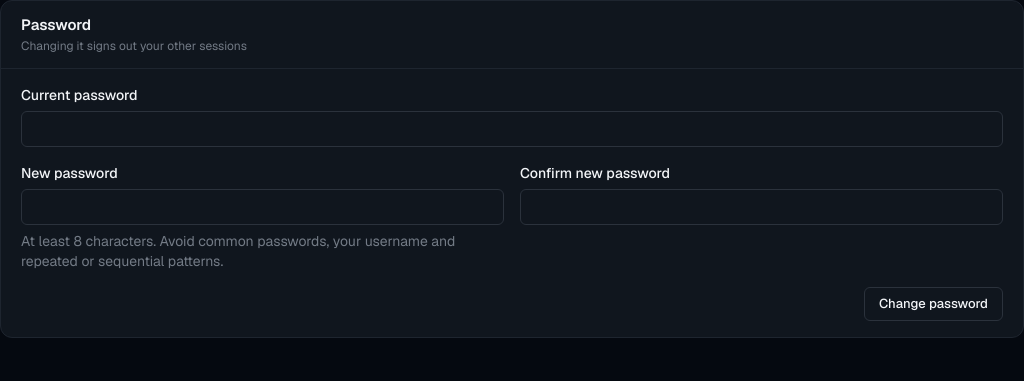
Test: ChangePasswordPanel › flags a wrong current password on its field
Type "wrong-secret" into the password field labelled "Current password". click: (512, 129)
box: x1=21 y1=111 x2=1003 y2=147
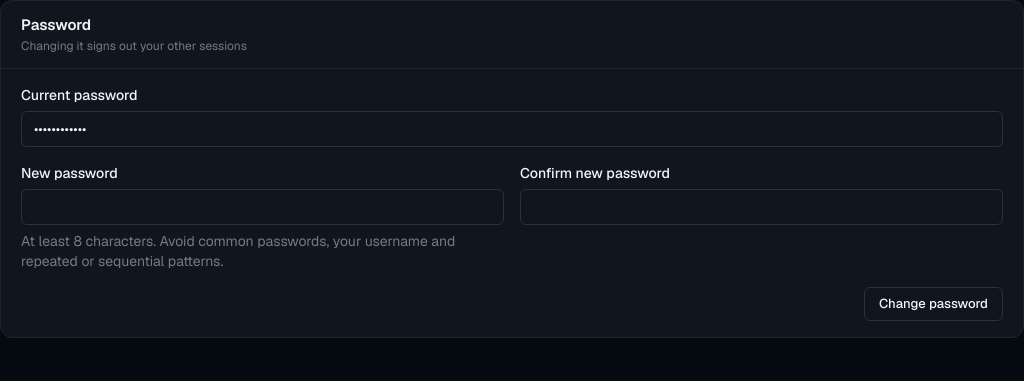
Type "new-secret-2" into the password field labelled "New password". click: (262, 207)
box: x1=21 y1=189 x2=504 y2=225
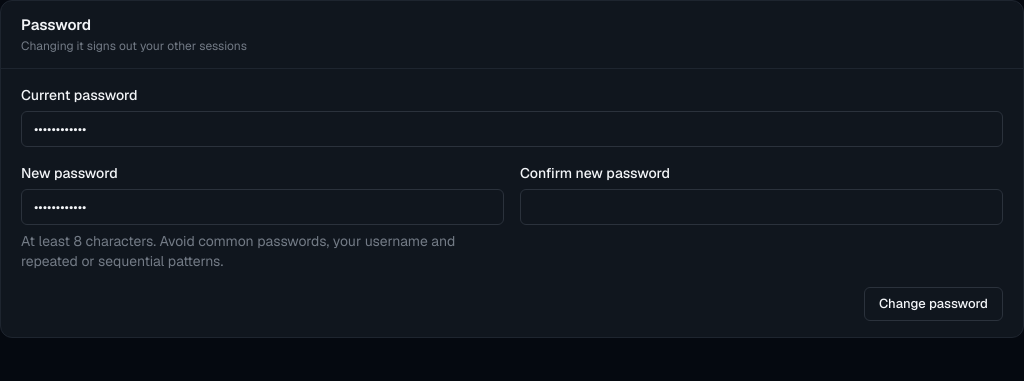
Type "new-secret-2" into the password field labelled "Confirm new password". click: (762, 207)
box: x1=520 y1=189 x2=1003 y2=225
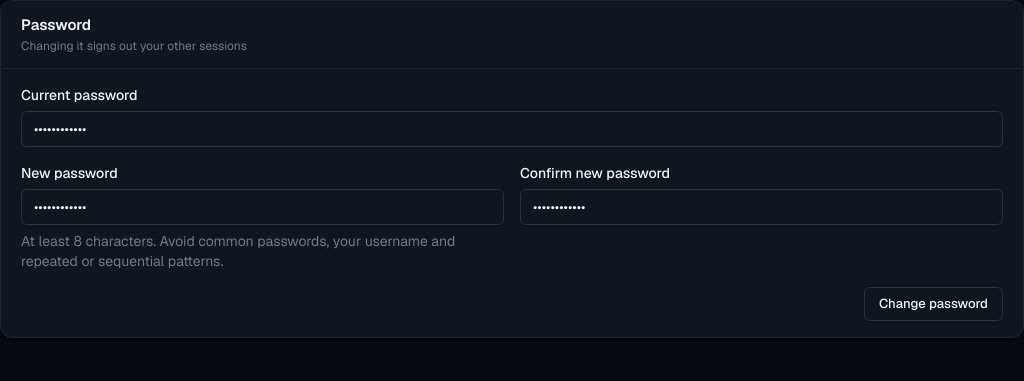
Click the button "Change password". click: (933, 304)
box: x1=864 y1=287 x2=1003 y2=321
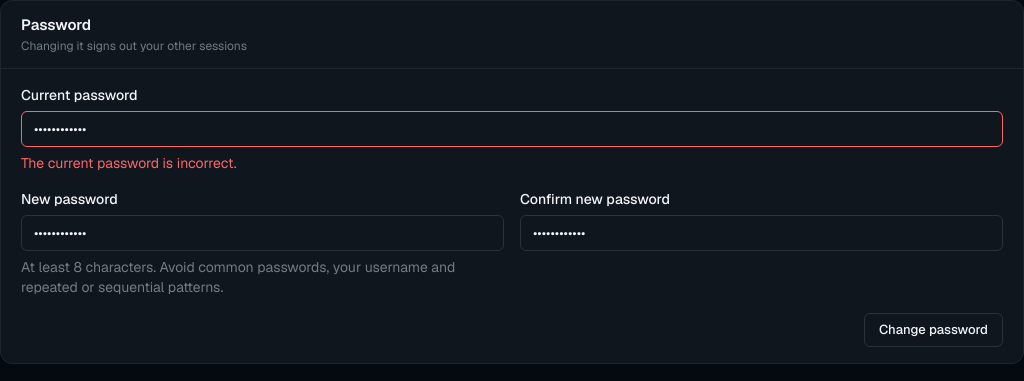
Check: the text "The current password is incorrect." is shown, box x1=21 y1=153 x2=237 y2=173
